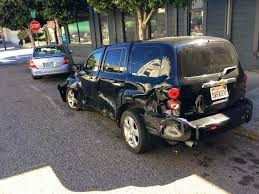Dent: (138, 82, 205, 140), (93, 80, 132, 108), (194, 94, 208, 114)
Scratch: (97, 92, 118, 108)
Smashed: (58, 68, 88, 112)
